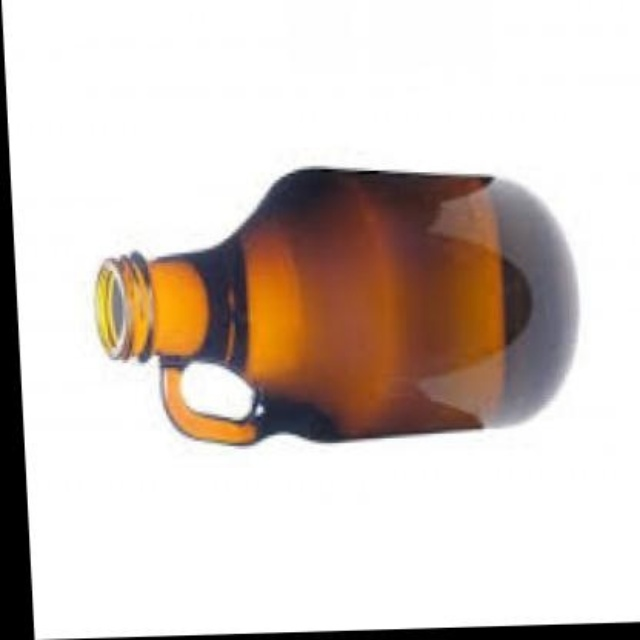trash: (95, 169, 577, 443)
